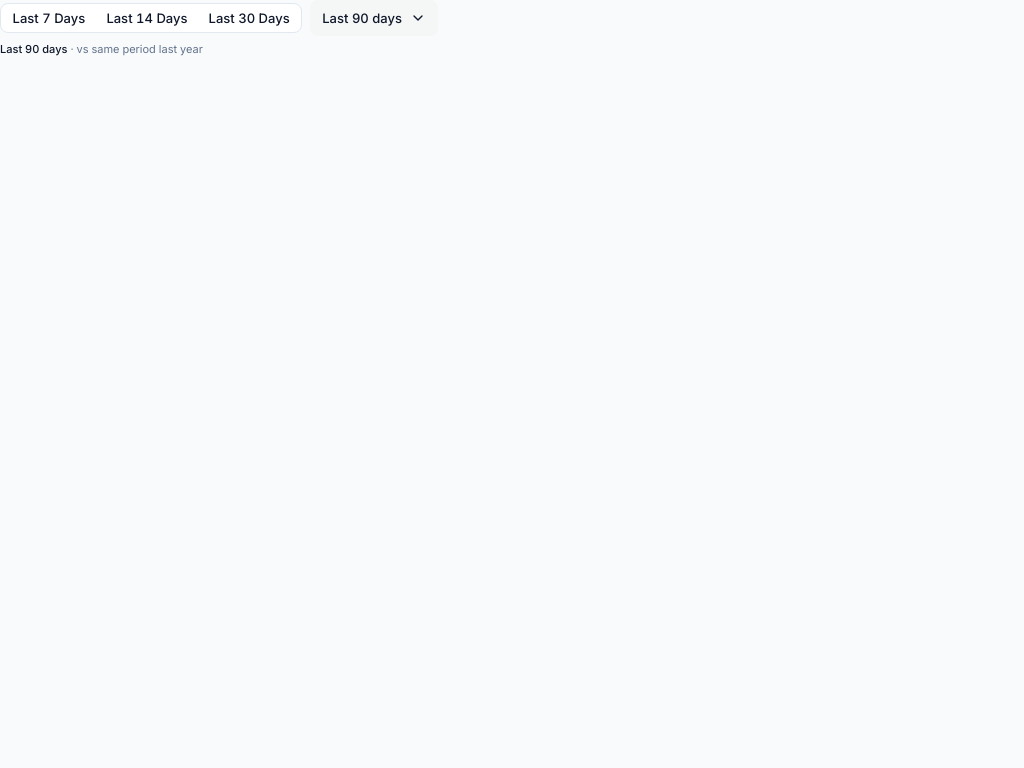
RangeBar › custom dates: range, week, month and quarter GET forms carry the page parameters, compare and group-by
Click the button "Last 90 days".
click(374, 18)  # box [310,0,438,36]
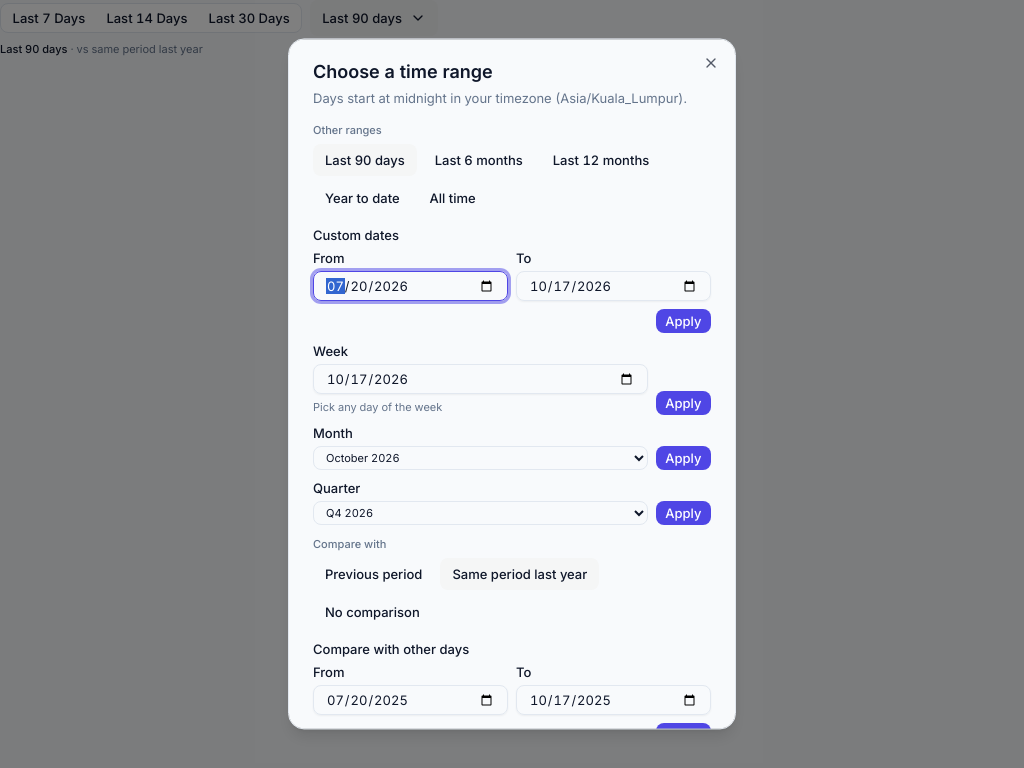
Result: the dialog "Choose a time range" shows "Custom dates" at [313,227,399,243]
Result: the date field labelled "From" below "Custom dates" holds "2026-07-20" at [313,272,508,302]
Result: the date field named "week" holds "2026-10-17" at [313,365,648,395]
